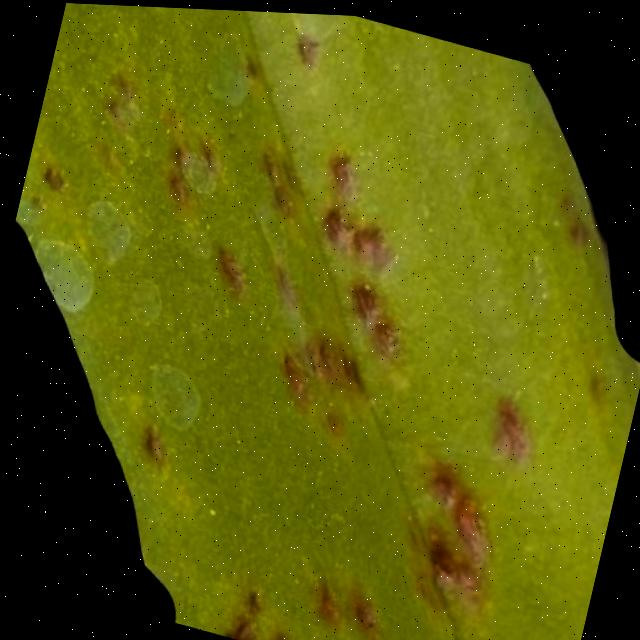mite: (0, 209, 257, 621), (462, 57, 640, 361), (195, 22, 264, 112), (134, 353, 210, 434), (164, 135, 226, 200), (36, 159, 69, 193)
spots: (0, 2, 640, 640)
